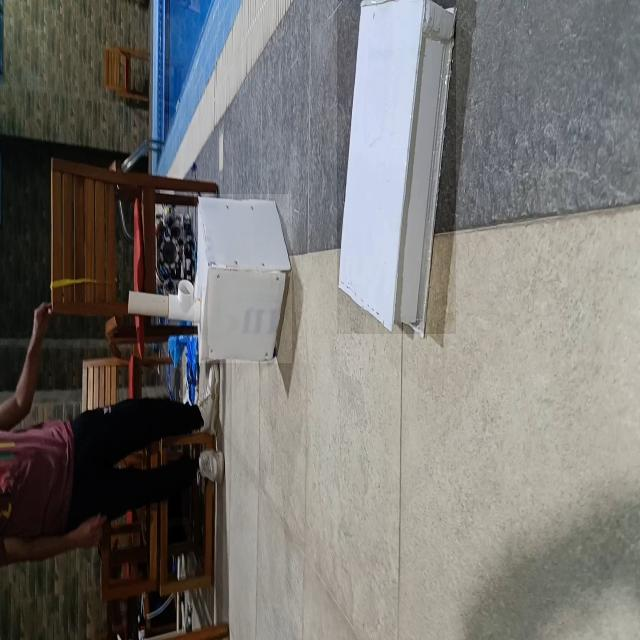Cube: (194, 194, 292, 363)
Cuboid: (337, 1, 456, 334)
